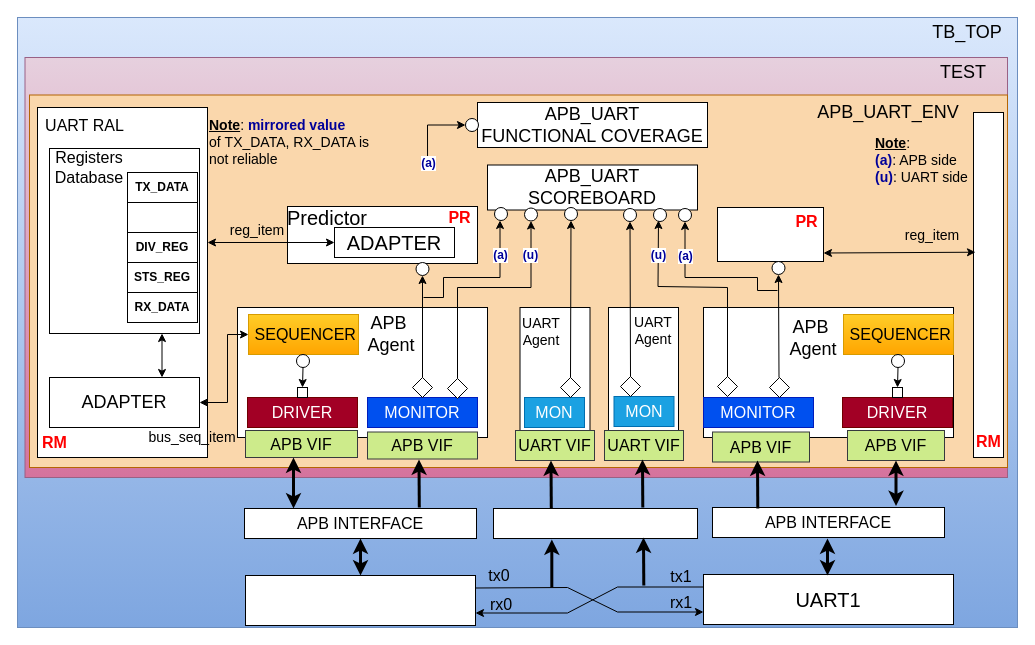
The diagram is 1035 pixels wide and 645 high, and some of its shapes have lost their labels. Each missing label, with the centre of its shape:
"CTRL_REG" goes at pixel 162 217.
"UART INTERFACE" goes at pixel 595 523.
"UART0" goes at pixel 360 600.
